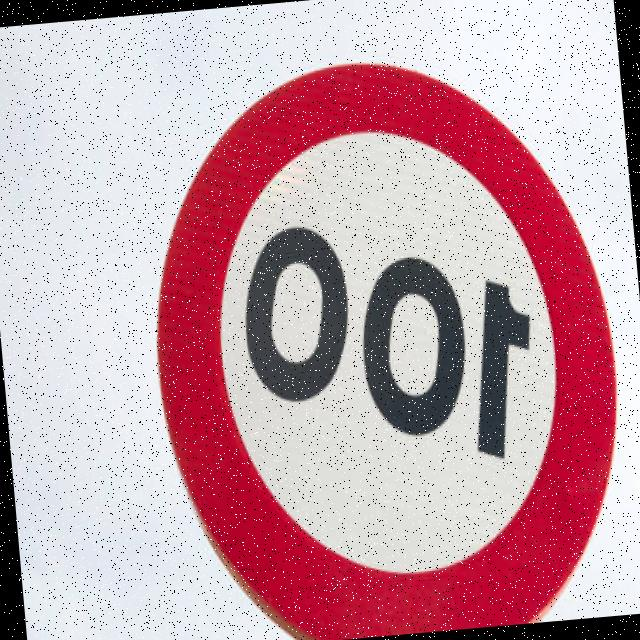speed_limit_100: (133, 35, 637, 640)
